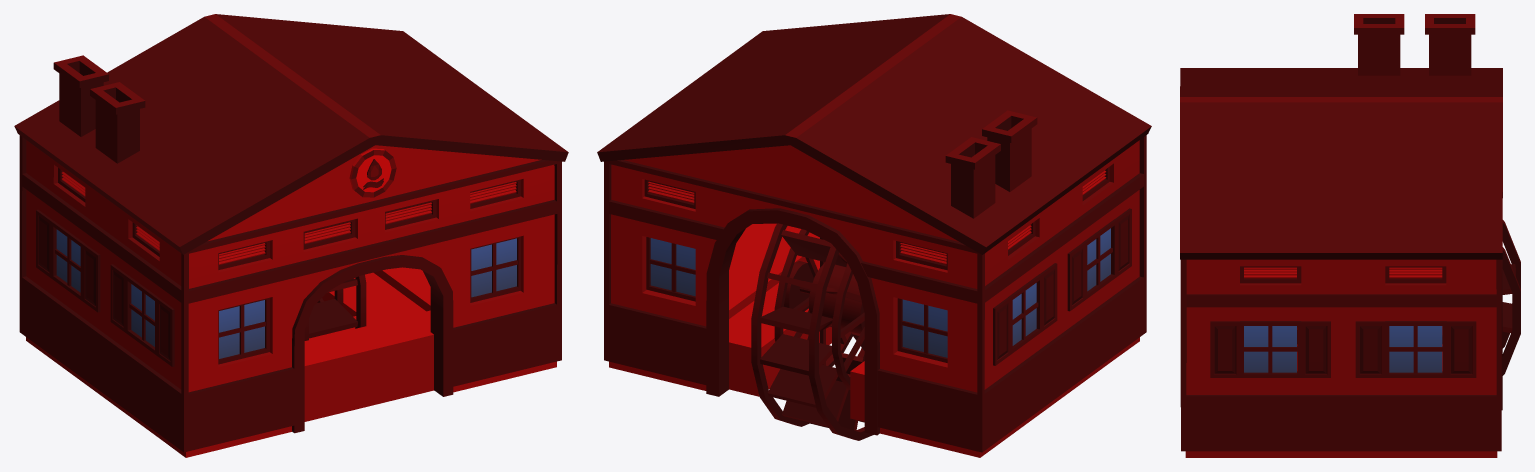
Rendered from buildings-industrial-hydropowerstation_v1.fbx.
The picture shows the model from 3 angles, left to right: view 1: azimuth 30°, elevation 25°; view 2: azimuth 150°, elevation 25°; view 3: azimuth 270°, elevation 25°; orthographic projection. The views are drawn at different scales.
Parts seen in each view (by area): view 1: HydroPowerStation_base, HydroPowerStation_windowRefl, HydroPowerStation_anim_10_0_0; view 2: HydroPowerStation_base, HydroPowerStation_anim_10_0_0, HydroPowerStation_windowRefl; view 3: HydroPowerStation_base, HydroPowerStation_windowRefl, HydroPowerStation_anim_10_0_0.
Part boxes in pixels (x1,y1,x2,y2): HydroPowerStation_base: (14, 14, 568, 457); HydroPowerStation_windowRefl: (56, 229, 516, 358); HydroPowerStation_anim_10_0_0: (304, 274, 366, 340); HydroPowerStation_base: (597, 14, 1151, 457); HydroPowerStation_anim_10_0_0: (751, 223, 873, 440); HydroPowerStation_windowRefl: (650, 228, 1110, 357); HydroPowerStation_base: (1180, 14, 1502, 457); HydroPowerStation_windowRefl: (1244, 326, 1442, 372); HydroPowerStation_anim_10_0_0: (1297, 220, 1520, 375).
Size of the model in its own units: 15.68 by 12.86 by 12.2.
